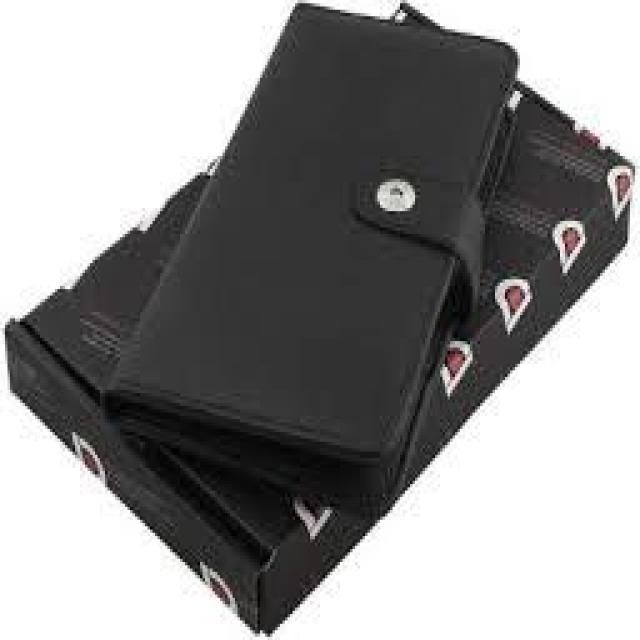cuzdan: (101, 0, 538, 513)
